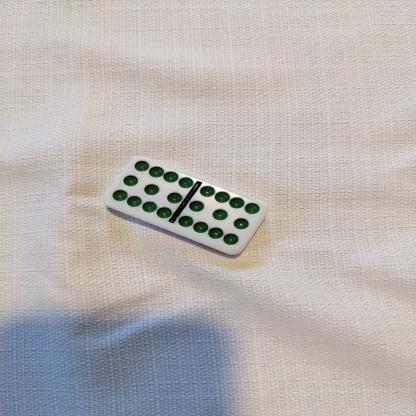pip-11: (177, 185, 267, 254), (102, 156, 193, 219)
